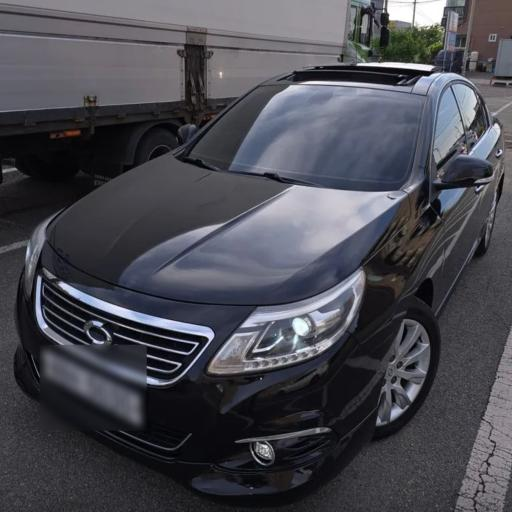dent: (116, 190, 307, 328)
